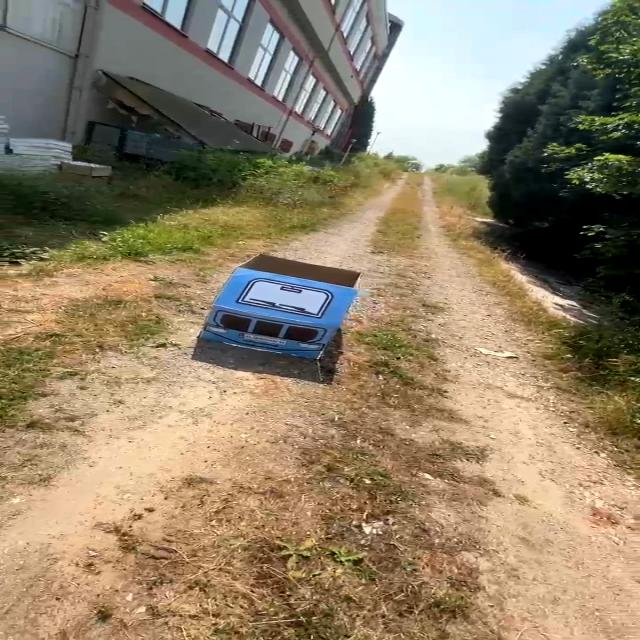blue_car: (155, 247, 377, 376)
